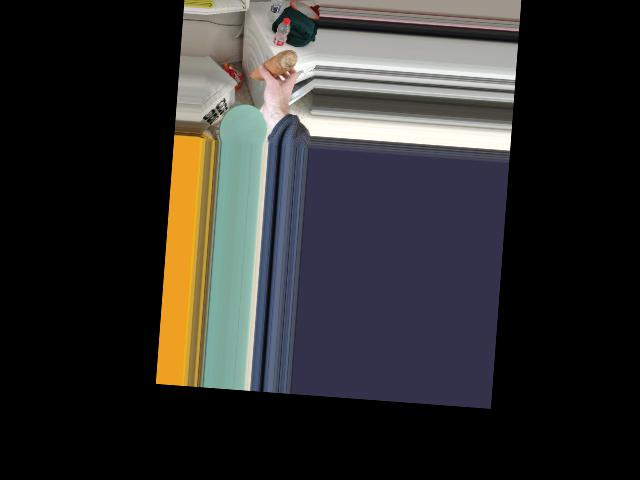sweet_potato: (250, 46, 297, 81)
